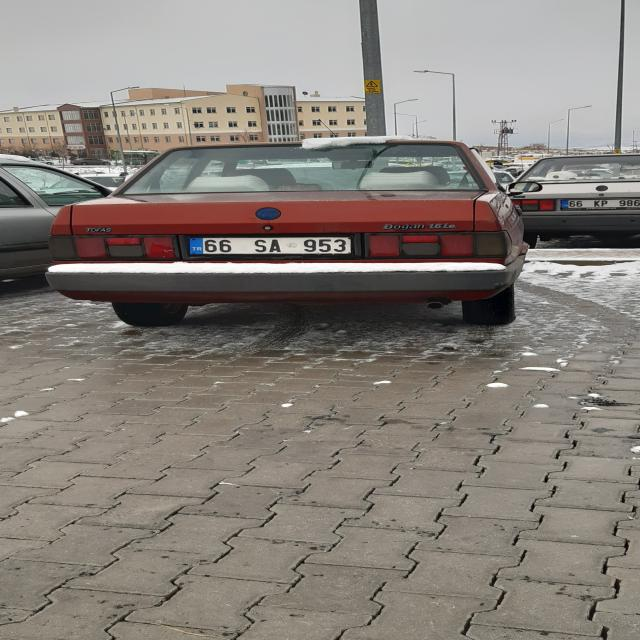license_plate: (188, 237, 352, 254)
